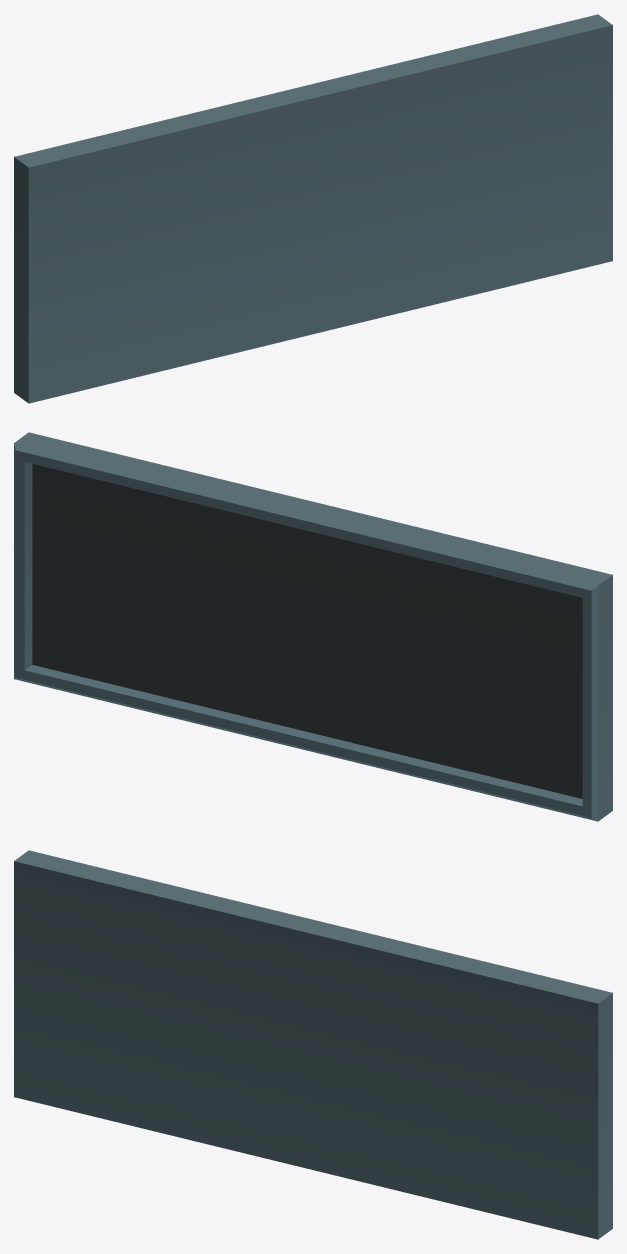
The model's file is squidgame_props_timer1.fbx.
3 renders of one model, top to bottom at view 1: azimuth 30°, elevation 25°; view 2: azimuth 150°, elevation 25°; view 3: azimuth 330°, elevation 25°, orthographic.
Visible parts, largest first — view 1: squidgame_props_timer1; view 2: squidgame_props_timer1; view 3: squidgame_props_timer1.
Boxes of the visible parts, x1=… form: squidgame_props_timer1: x1=14, y1=14, x2=612, y2=403; squidgame_props_timer1: x1=14, y1=432, x2=612, y2=821; squidgame_props_timer1: x1=14, y1=850, x2=612, y2=1239.
Size of the model in its own units: 8.06 by 3.11 by 0.4114.
